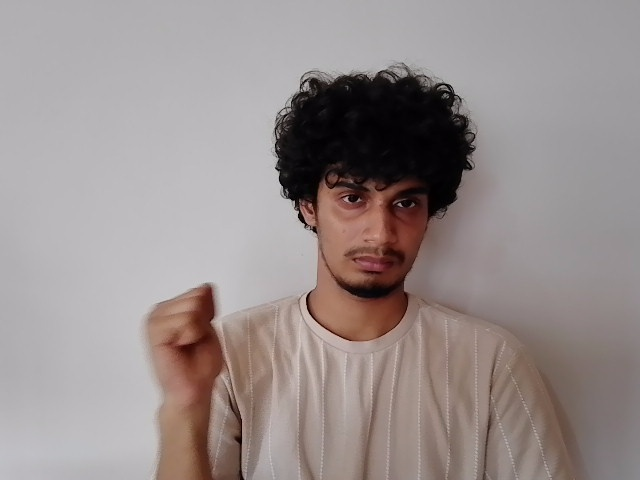how: (144, 286, 229, 403)
